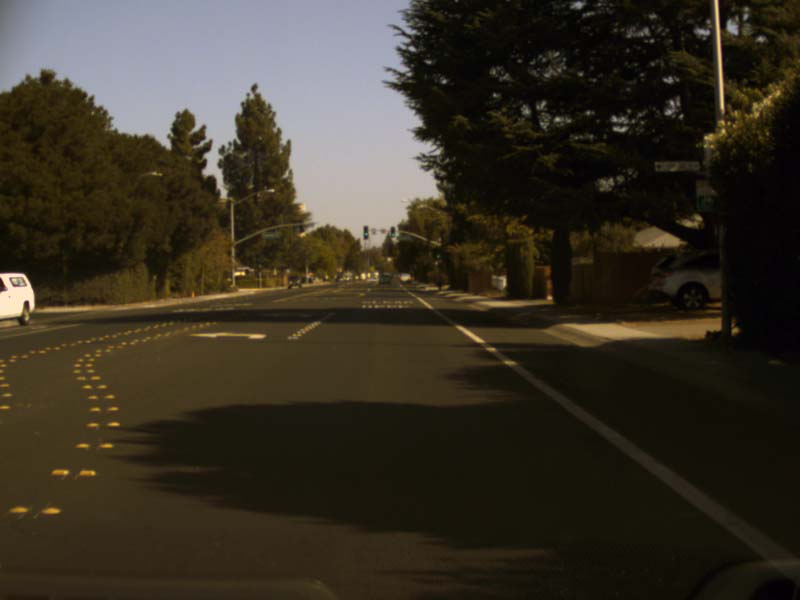Green: (433, 245, 441, 260), (389, 226, 396, 238), (363, 225, 368, 239)
